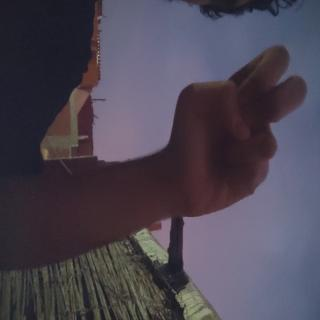QAAF: (30, 8, 192, 211)
